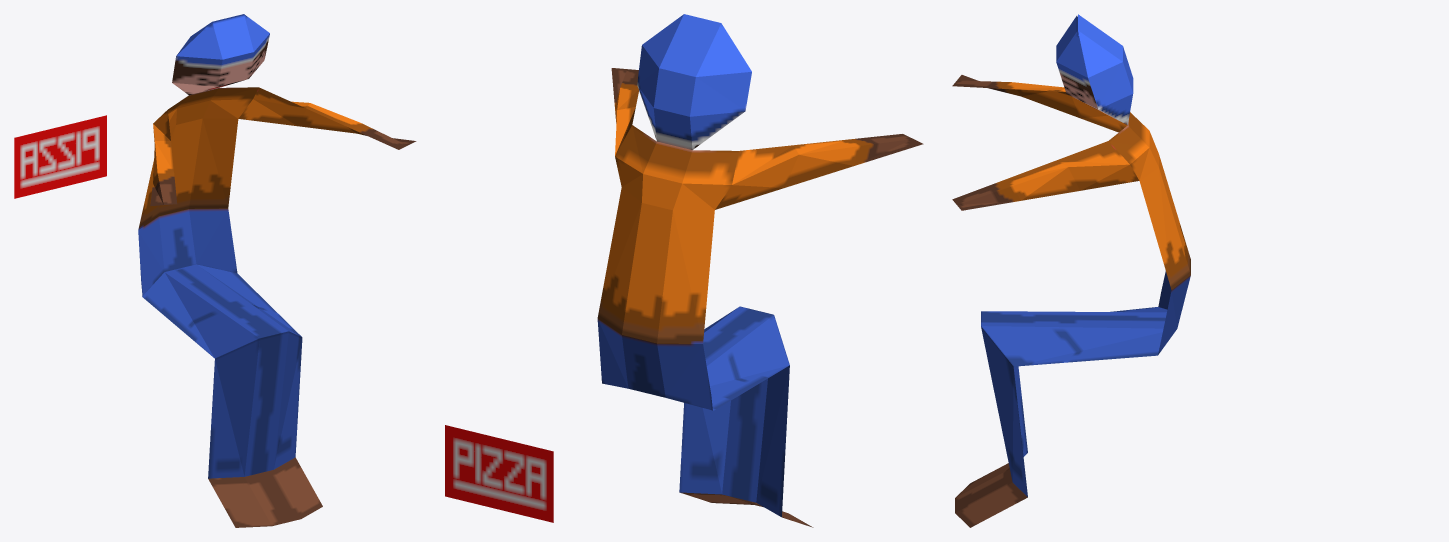
Rendered from driver.obj.
3 renders of one model, left to right at view 1: azimuth 30°, elevation 25°; view 2: azimuth 150°, elevation 25°; view 3: azimuth 270°, elevation 25°, orthographic. The views are drawn at different scales.
Visible parts, largest first — view 1: DRIVER; view 2: DRIVER; view 3: DRIVER.
Part boxes in pixels (x1,y1,x2,y2): DRIVER: [14, 14, 416, 527]; DRIVER: [445, 14, 923, 527]; DRIVER: [952, 14, 1190, 527].
Size of the model in its own units: 0.6701 by 1.11 by 1.
